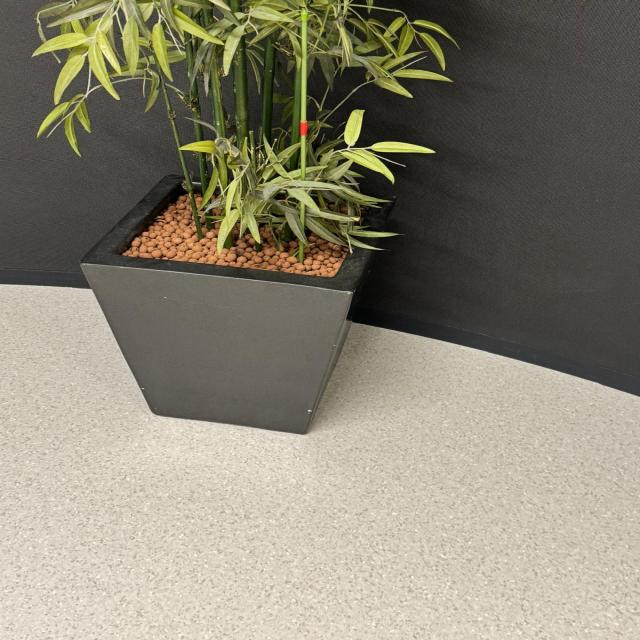Pot: (77, 173, 397, 435)
